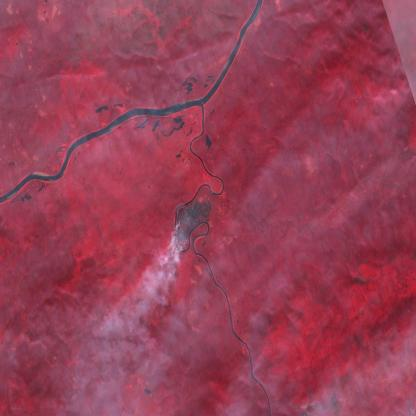fire: (167, 190, 212, 256)
